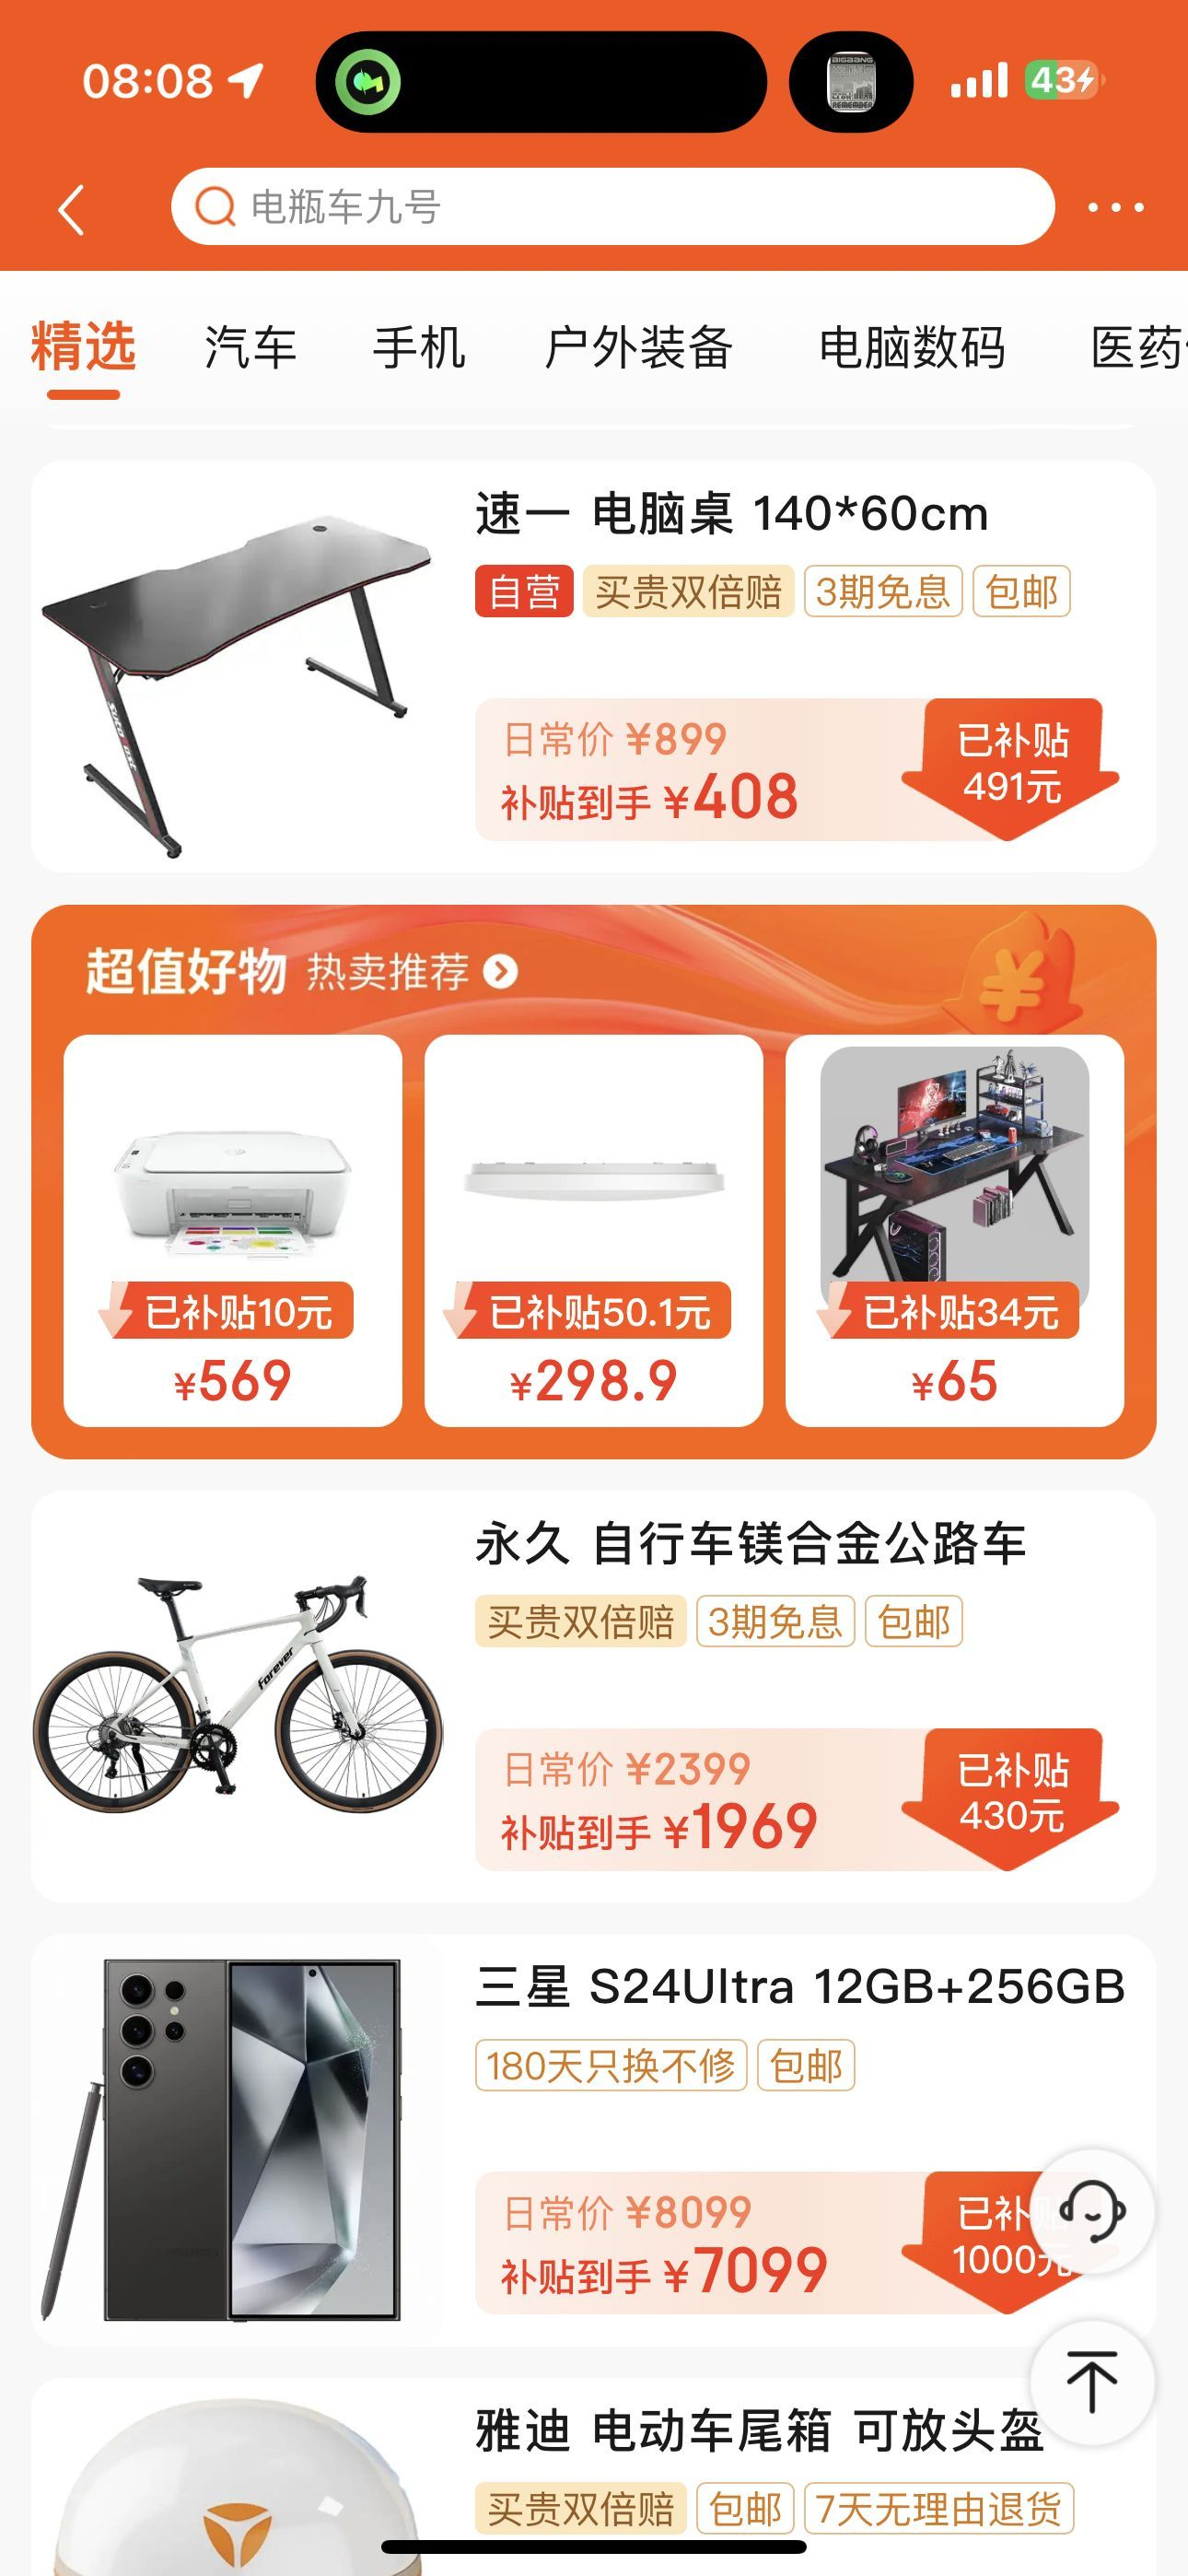banner: (39, 902, 1163, 1459)
item: (33, 1488, 1158, 1917), (30, 1930, 1163, 2353), (33, 453, 1162, 874)
op_bar: (12, 156, 1178, 260)
